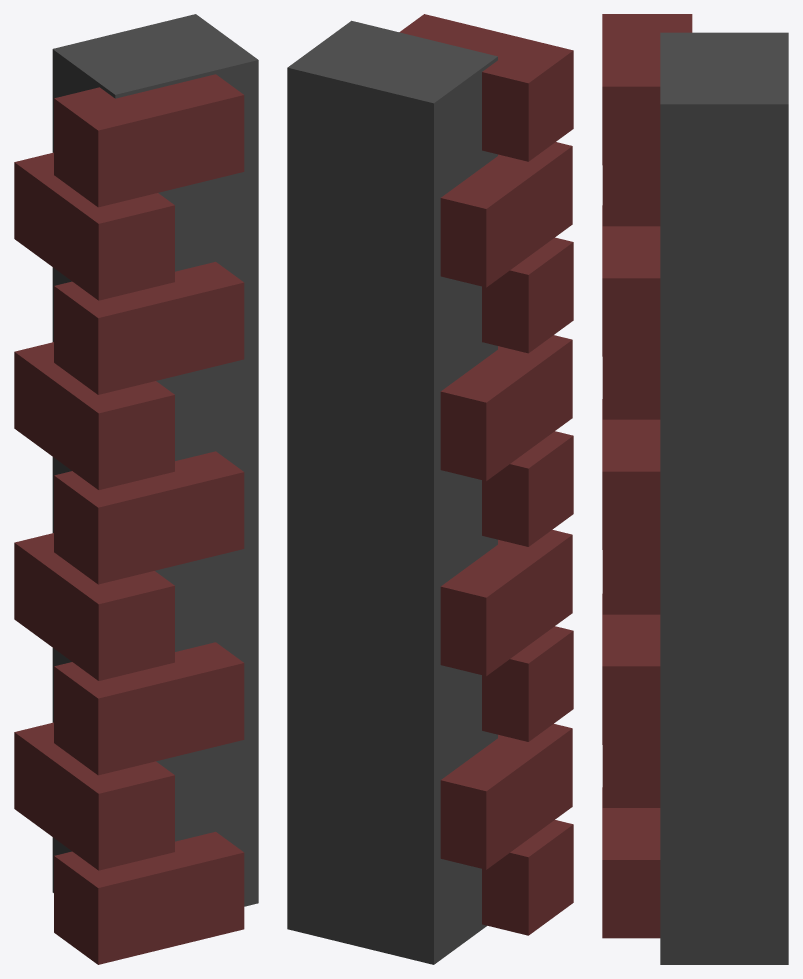
Rendered from coluna.fbx.
The picture shows the model from 3 angles, left to right: view 1: azimuth 30°, elevation 25°; view 2: azimuth 150°, elevation 25°; view 3: azimuth 270°, elevation 25°; orthographic projection. The views are drawn at different scales.
Parts seen in each view (by area): view 1: pCube21; view 2: pCube21; view 3: pCube21.
Boxes of the visible parts, x1,y1,x2,y2 form: pCube21: [14, 14, 258, 964]; pCube21: [287, 14, 573, 964]; pCube21: [602, 14, 788, 964].
Bounding box in the file's own units: 1.19 × 5.07 × 0.9939.
